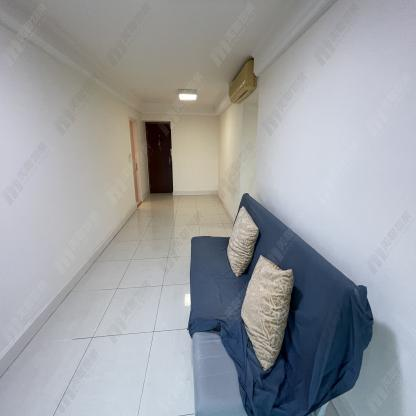AC: (228, 59, 258, 104)
Sofa: (190, 193, 368, 416)
